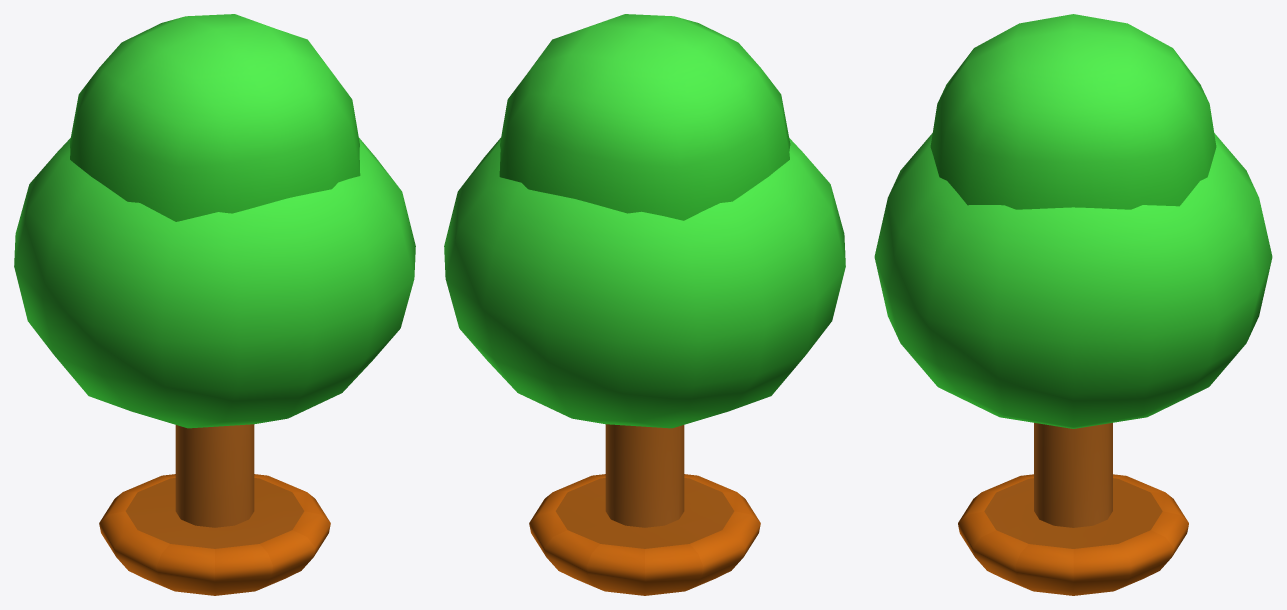
The model's file is Tree1.fbx.
3 renders of one model, left to right at view 1: azimuth 30°, elevation 25°; view 2: azimuth 150°, elevation 25°; view 3: azimuth 270°, elevation 25°, orthographic.
Parts seen in each view (by area): view 1: Tree; view 2: Tree; view 3: Tree.
Part boxes in pixels (bbox=[...]): Tree: bbox=[14, 14, 415, 595]; Tree: bbox=[444, 14, 845, 595]; Tree: bbox=[874, 14, 1272, 595].
Size of the model in its own units: 26.72 by 39.36 by 26.72.
1 material, 1 textured.
